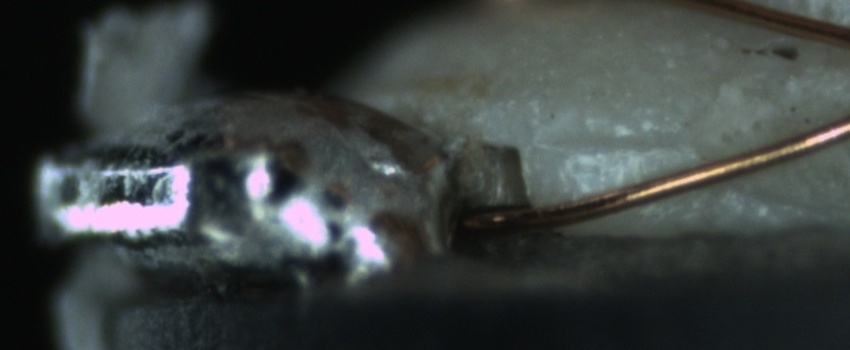DL: (544, 109, 691, 179)
